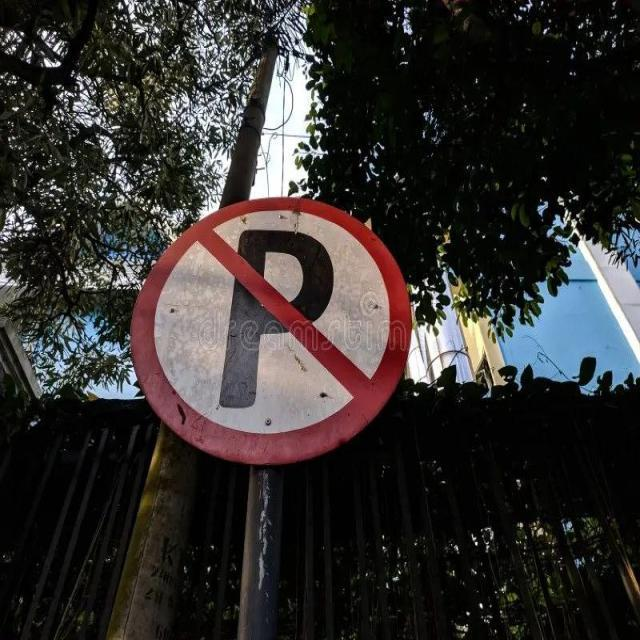no parking: (133, 195, 410, 467)
